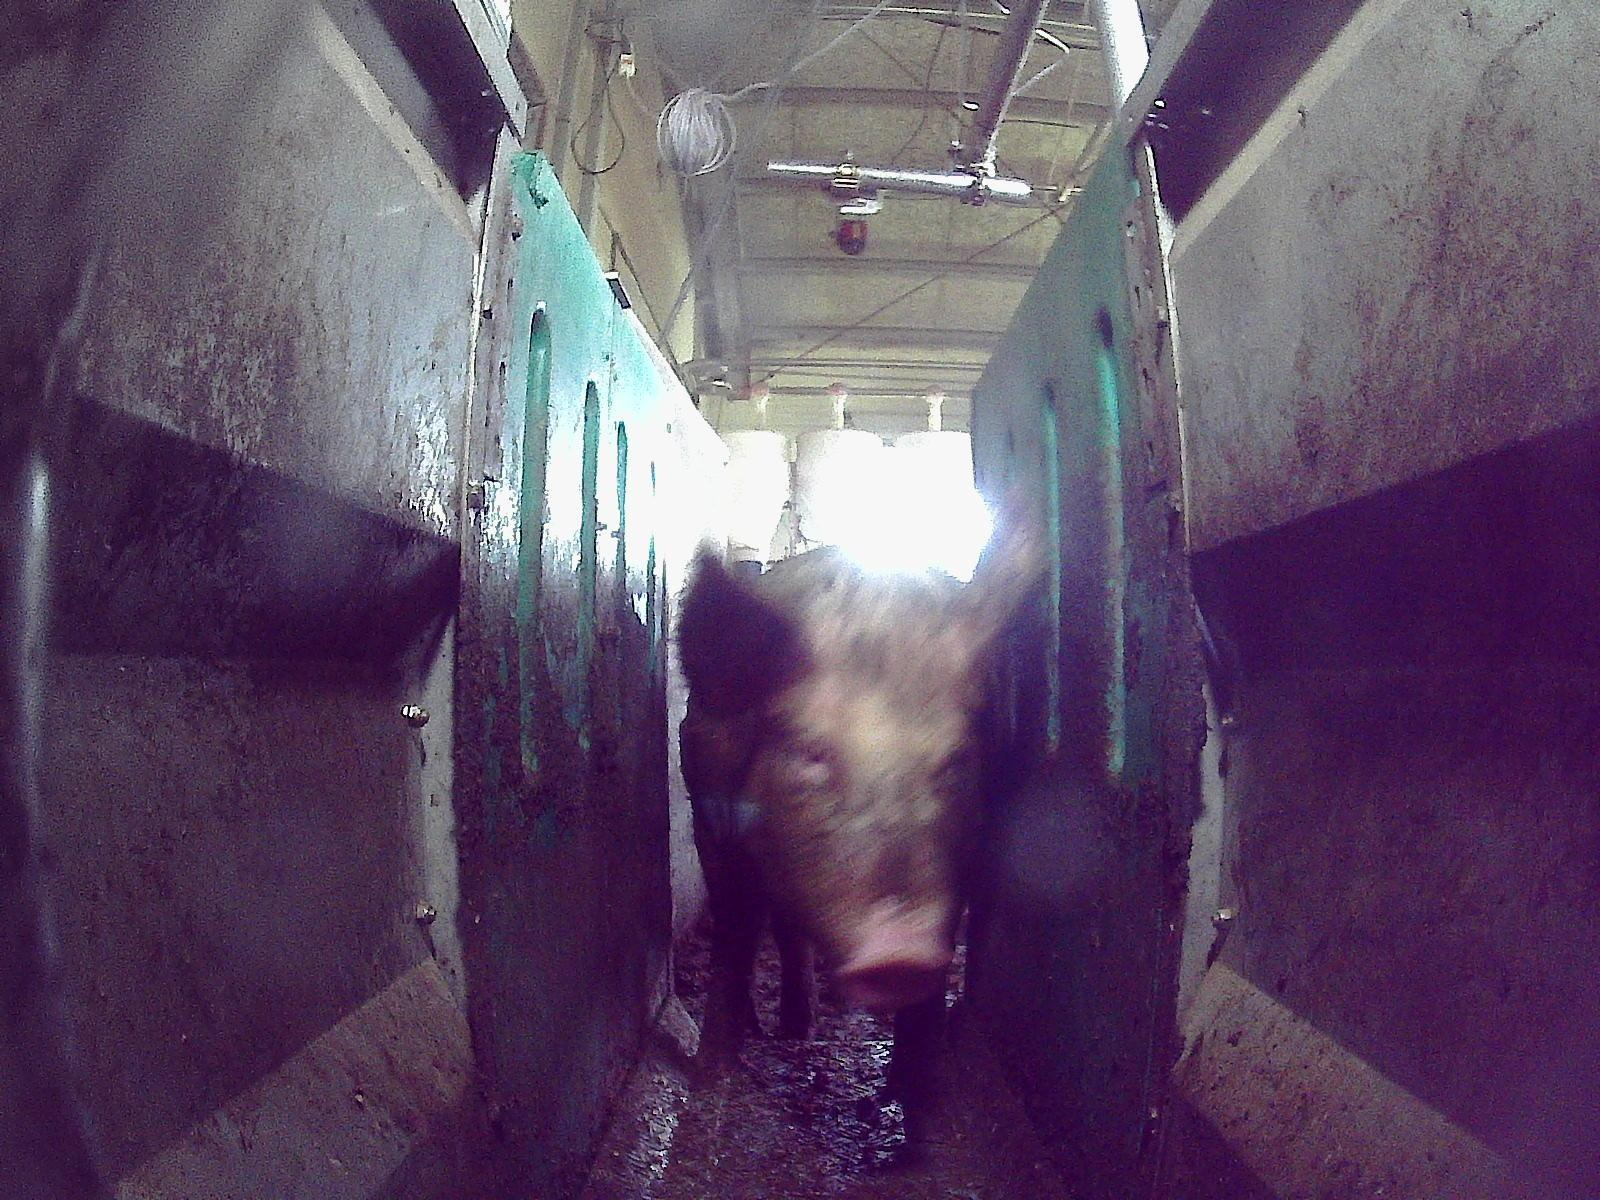Face: (753, 620, 973, 1009)
